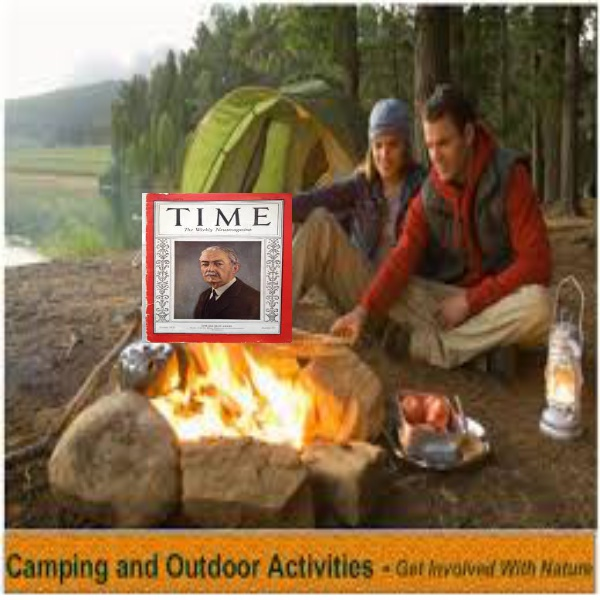time_cover: (140, 190, 293, 350)
